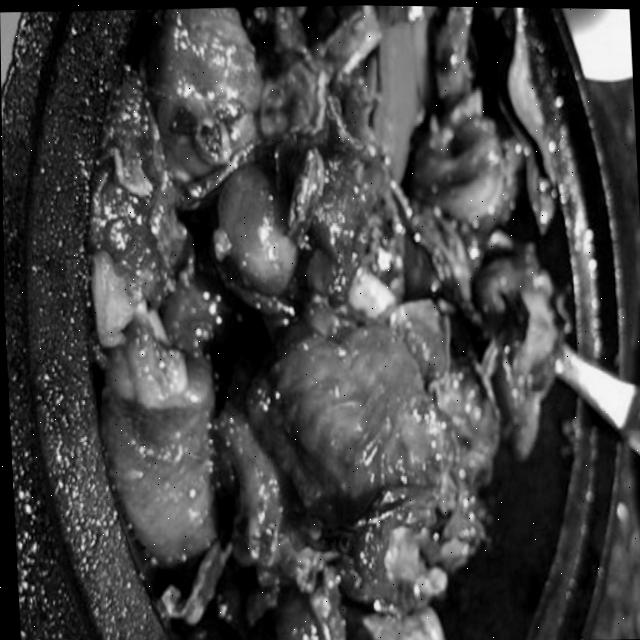鸡肉料理 含炸鸡: (59, 1, 620, 640)
